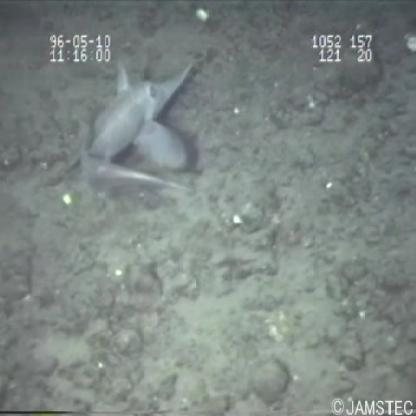Bio: (57, 50, 207, 200)
